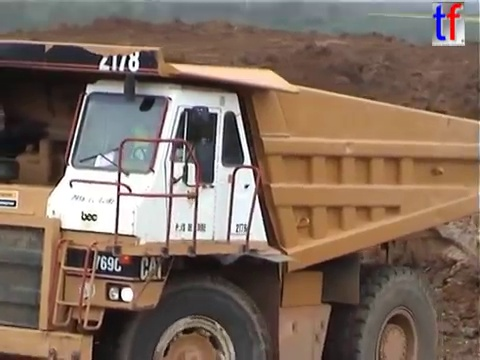truck: (1, 32, 480, 360)
